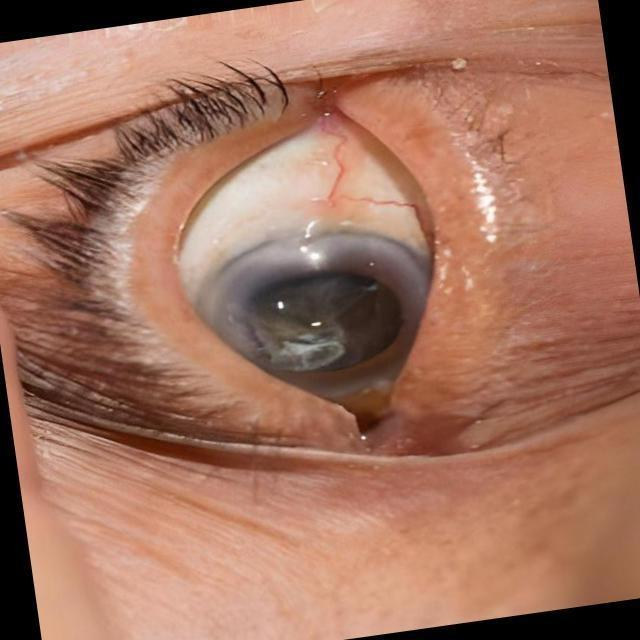Cataract: (187, 207, 437, 419)
